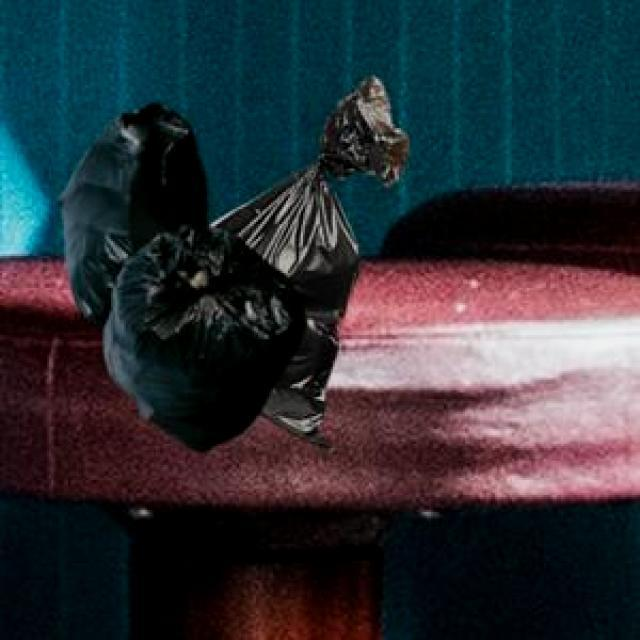Trashbag: (98, 221, 306, 455), (55, 90, 214, 257)
